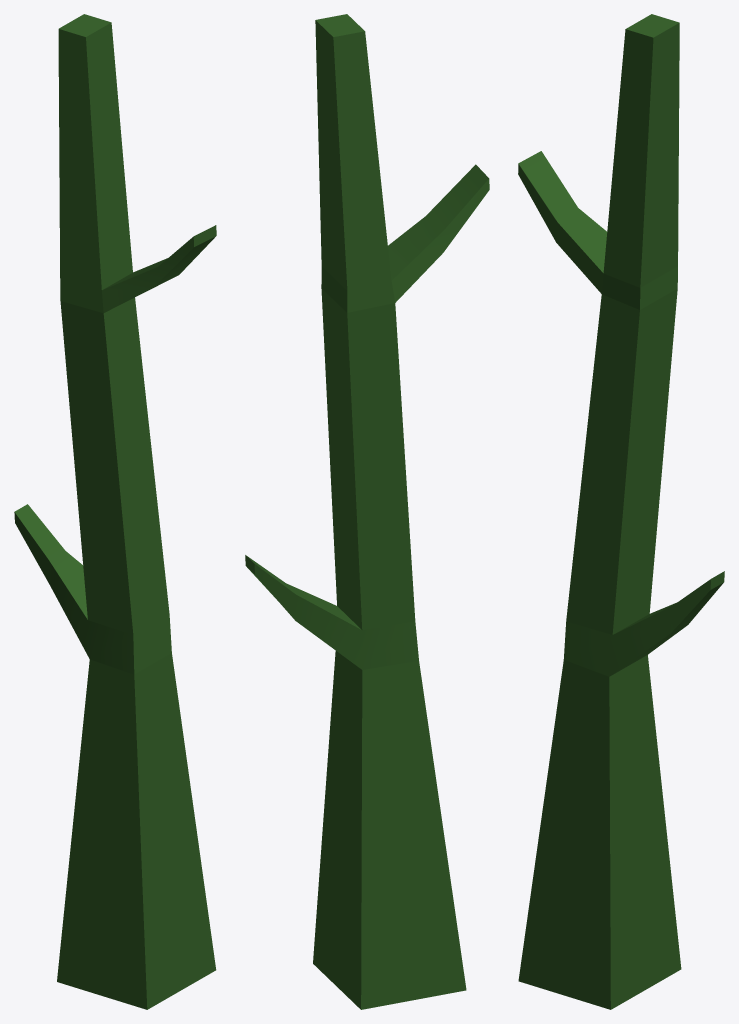
The model's file is bamboo_3.fbx.
3 renders of one model, left to right at view 1: azimuth 90°, elevation 25°; view 2: azimuth 150°, elevation 25°; view 3: azimuth 270°, elevation 25°, orthographic. The views are drawn at different scales.
Parts seen in each view (by area): view 1: bamboo_3; view 2: bamboo_3; view 3: bamboo_3.
Part boxes in pixels (bbox=[...]): bamboo_3: bbox=[14, 14, 216, 1009]; bamboo_3: bbox=[245, 14, 489, 1009]; bamboo_3: bbox=[518, 14, 724, 1009].
Bounding box in the file's own units: 57.34 × 331 × 64.47.
